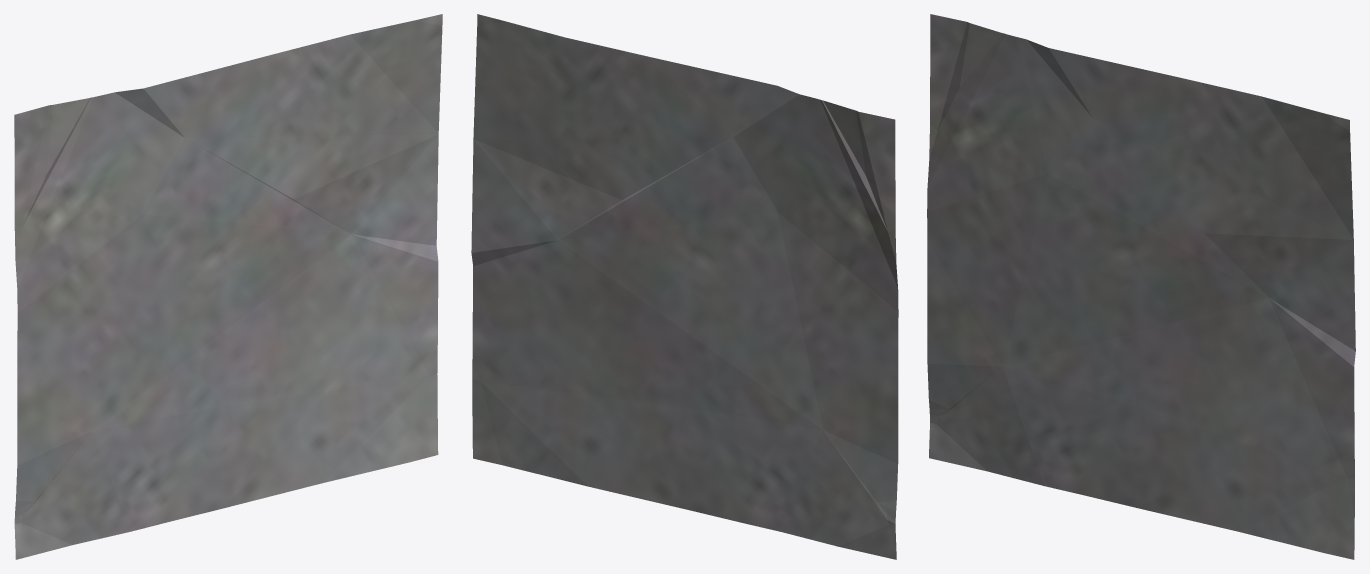
File: Tile_+003_+006_L24_0032012.obj
3 views of the same model, side by side, from view 1: azimuth 30°, elevation 25°; view 2: azimuth 150°, elevation 25°; view 3: azimuth 330°, elevation 25° (orthographic).
Bounding box in the file's own units: 0.9531 × 0.9531 × 0.0286.
Materials: 1 (1 with a texture image).
